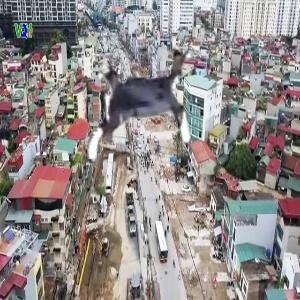drone: (74, 39, 208, 173)
